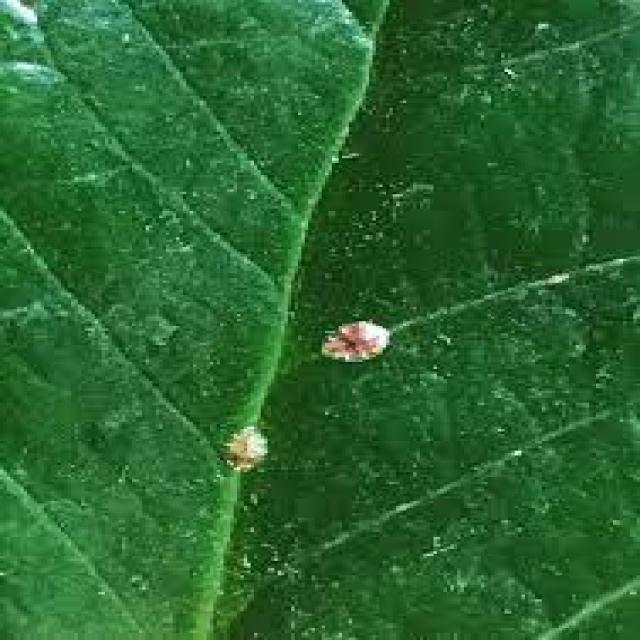scale_insect: (305, 307, 403, 369), (213, 412, 278, 477)
